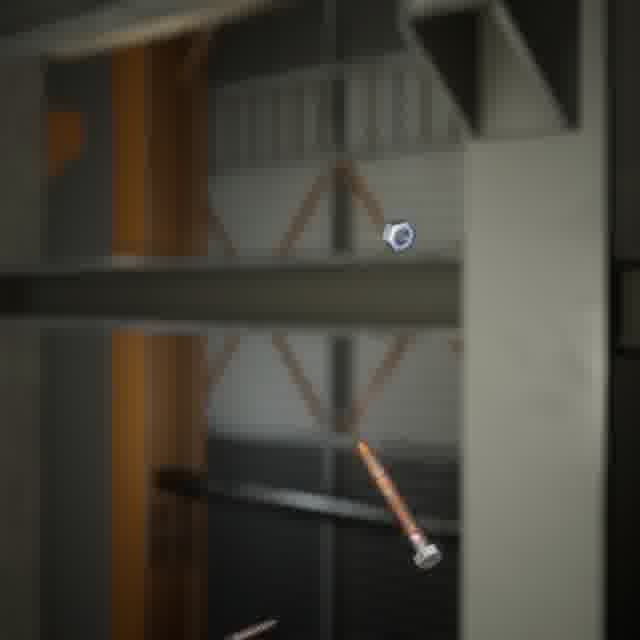bolt: (350, 435, 447, 574), (200, 614, 282, 640)
nut: (377, 213, 420, 256)
